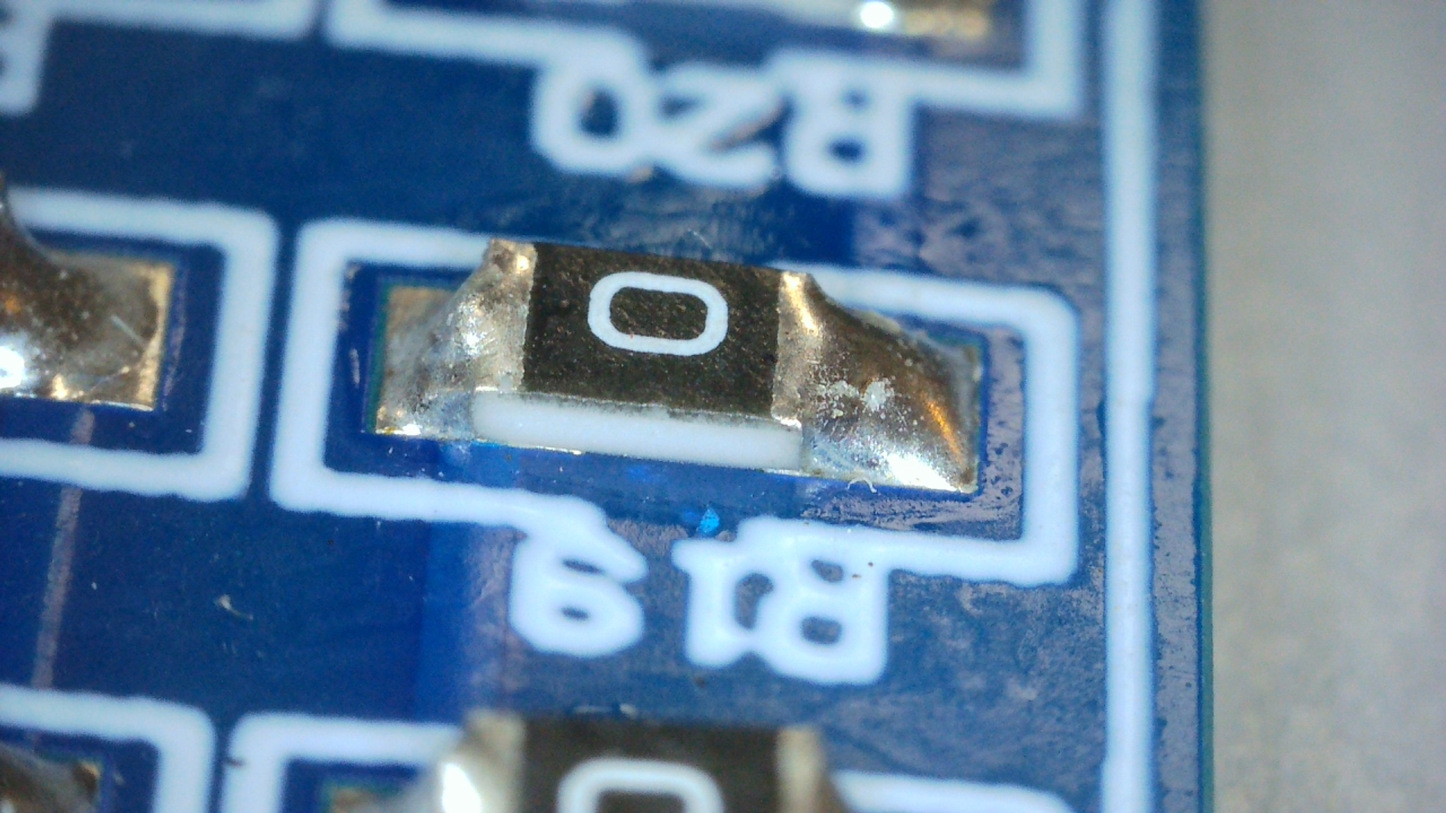NG: (772, 271, 978, 491), (405, 239, 530, 433)
